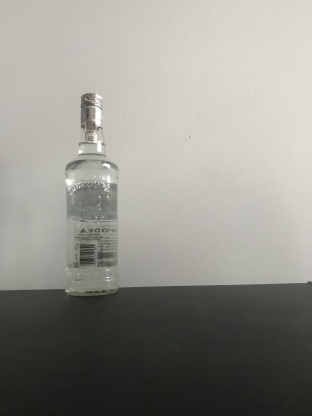nakretka: (78, 90, 104, 130)
